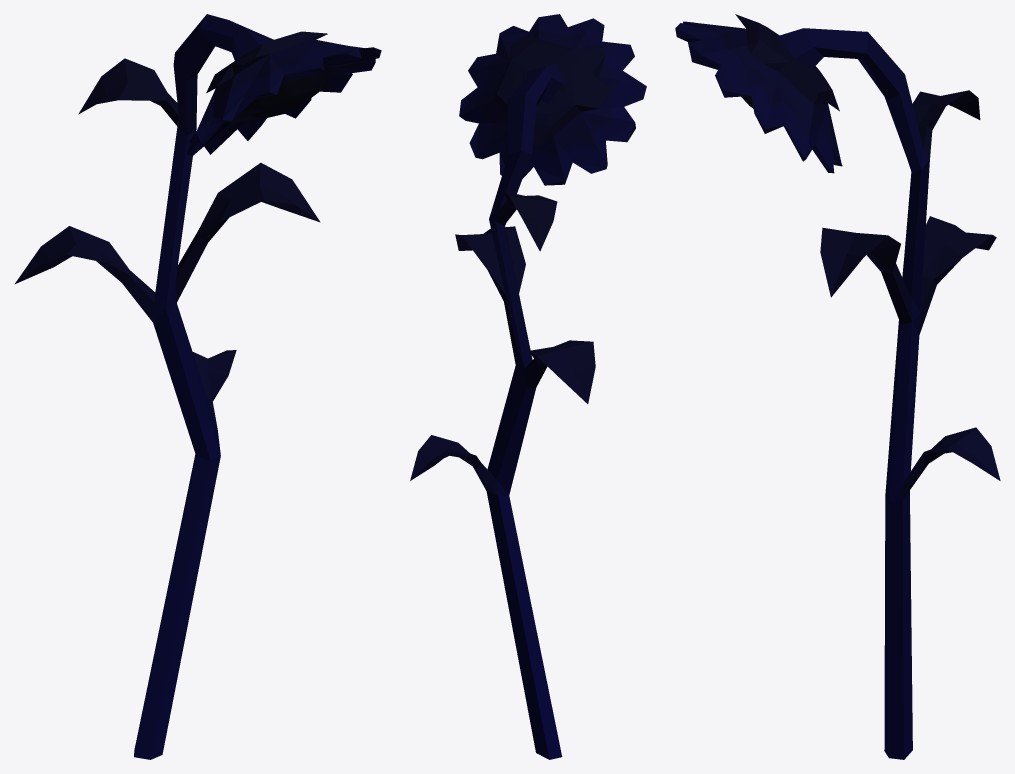
Rendered from SM_Plant_Sunflower_01.glb.
The picture shows the model from 3 angles, left to right: view 1: azimuth 30°, elevation 25°; view 2: azimuth 150°, elevation 25°; view 3: azimuth 270°, elevation 25°; orthographic projection. The views are drawn at different scales.
Visible parts, largest first — view 1: SM_Plant_Sunflower_01; view 2: SM_Plant_Sunflower_01; view 3: SM_Plant_Sunflower_01.
Boxes of the visible parts, x1,y1,x2,y2 form: SM_Plant_Sunflower_01: (15, 14, 381, 759); SM_Plant_Sunflower_01: (410, 14, 646, 759); SM_Plant_Sunflower_01: (675, 14, 1000, 759).
Size of the model in its own units: 50.13 by 144 by 56.29.
1 material, 1 textured.
